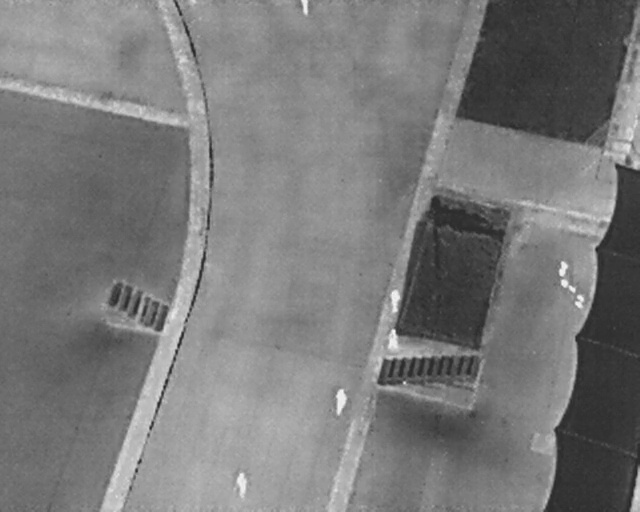Person: (333, 387, 347, 416), (235, 470, 248, 501), (387, 327, 399, 351), (389, 288, 400, 313), (300, 0, 309, 17)
